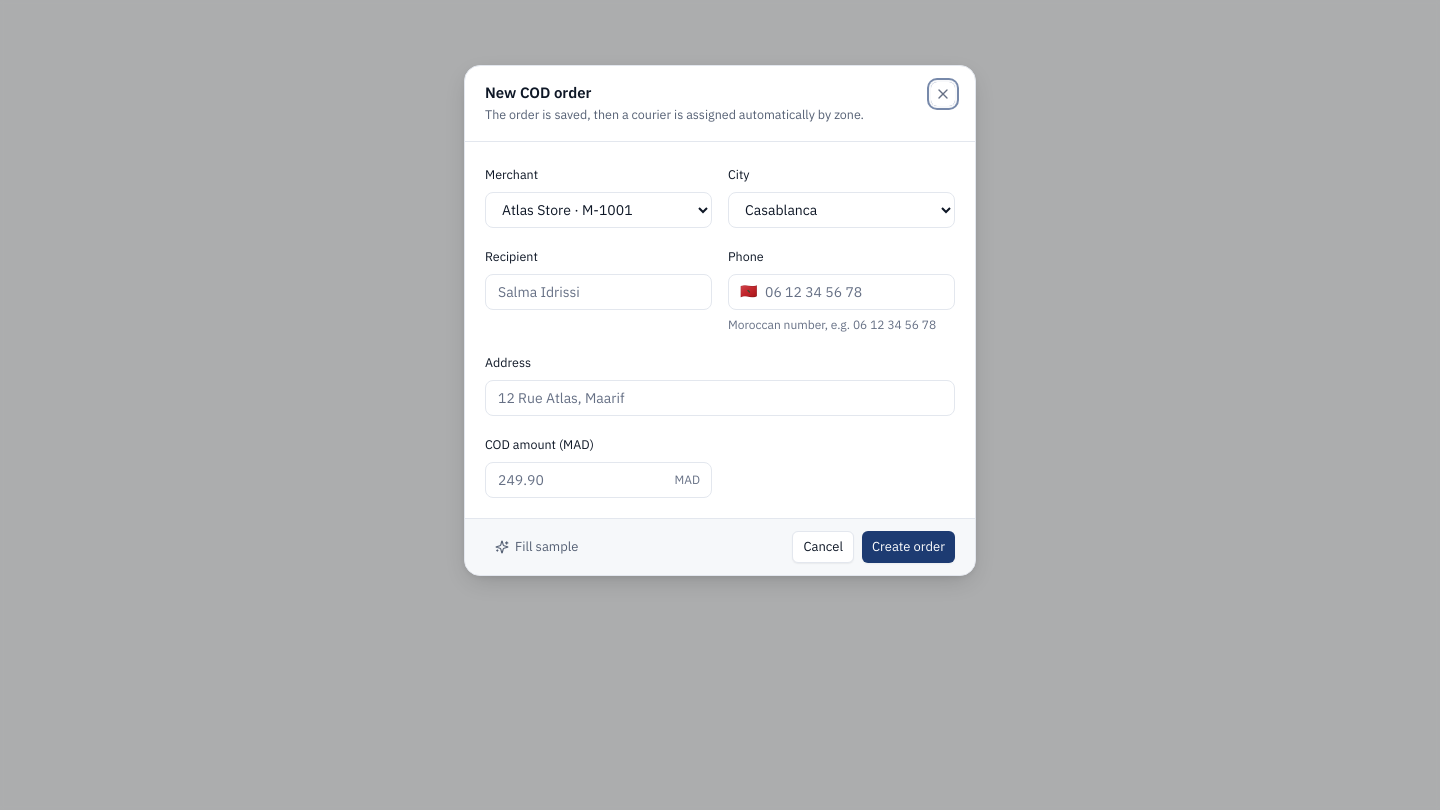
Test case: CreateOrderDialog › does not call the API when the form is invalid
Type "0812" into the field labelled "Phone" at [842, 292], box x1=728 y1=274 x2=955 y2=310
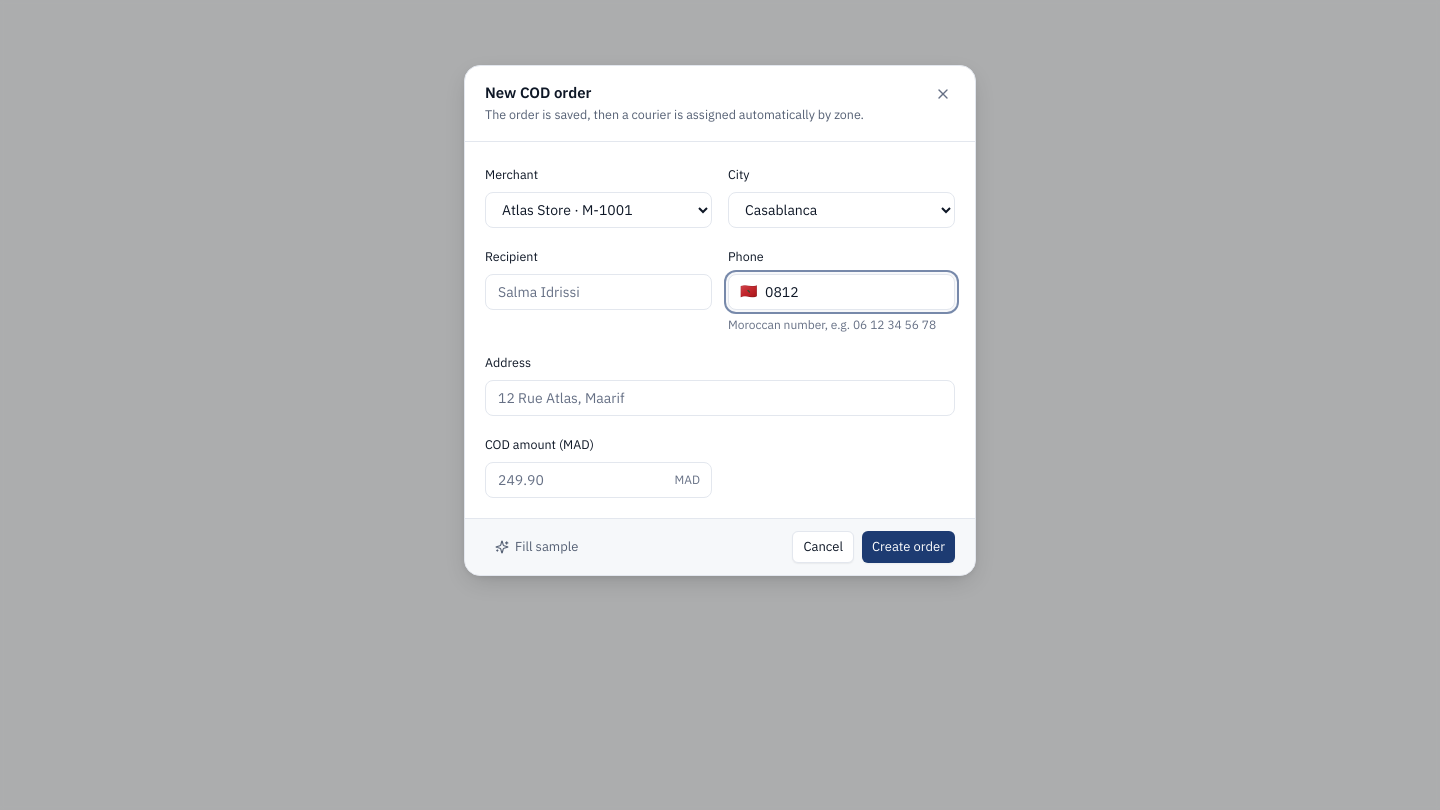
Click the button with test id "submit-order" at [908, 547], box x1=862 y1=531 x2=955 y2=563
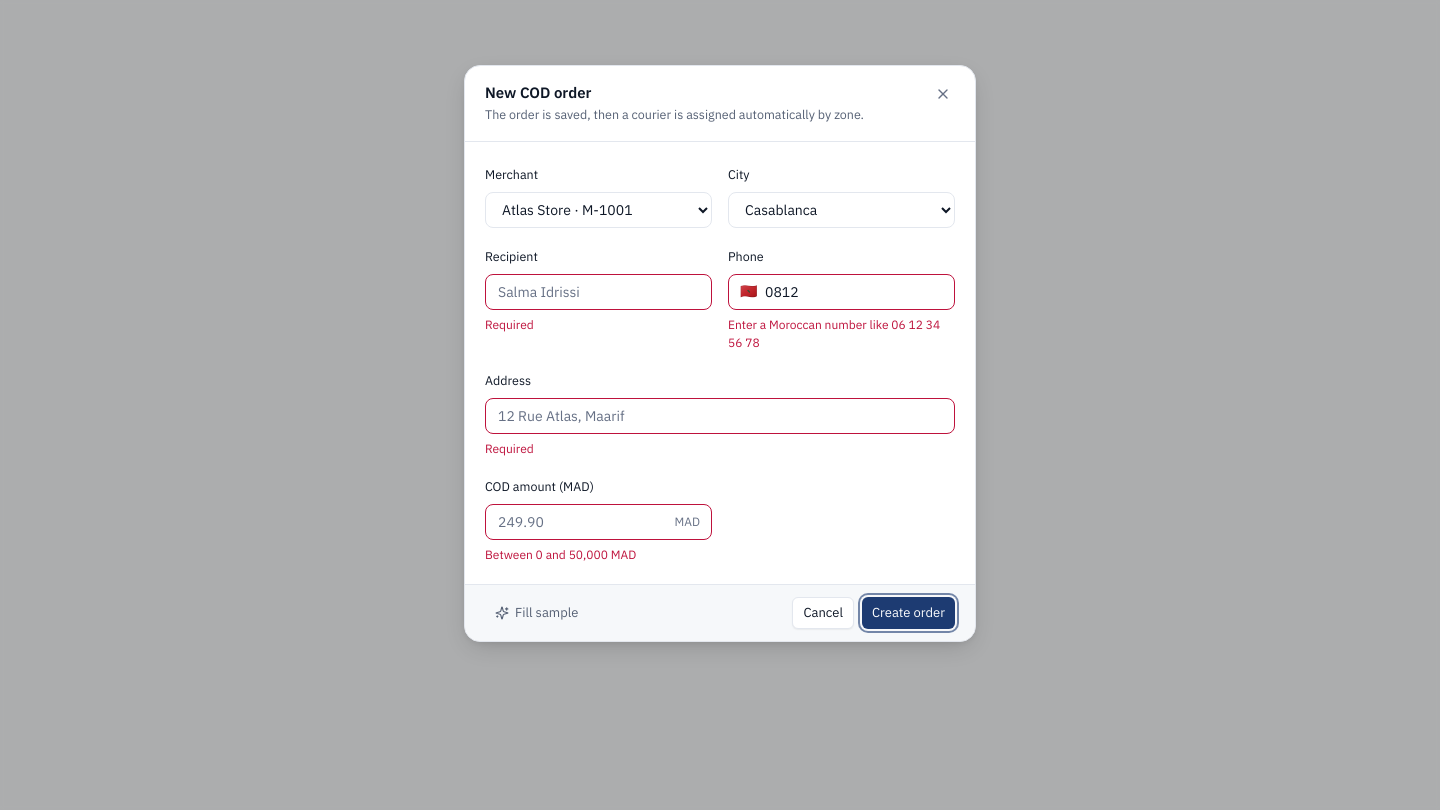
Expected: the text "Enter a Moroccan number like 06 12 34 56 78" is shown, x1=728 y1=316 x2=955 y2=352
Expected: the text "Required" is shown 2 times, x1=485 y1=316 x2=534 y2=334; x1=485 y1=440 x2=534 y2=458
